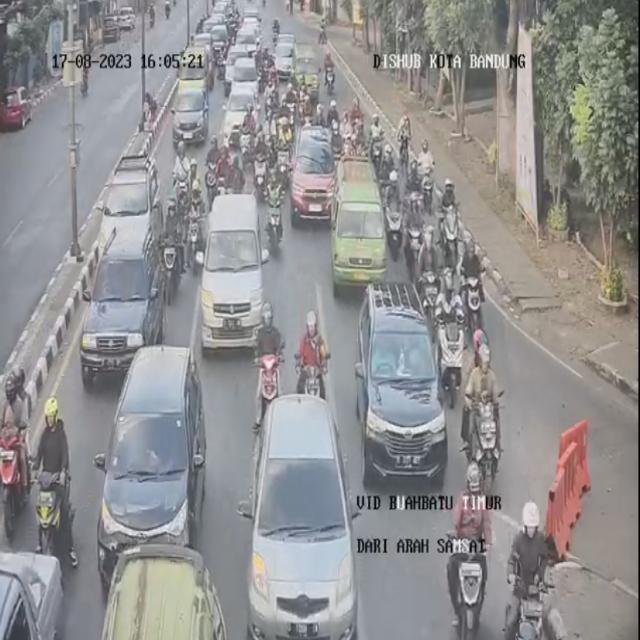bunch of motorcycle: (214, 137, 286, 193), (332, 103, 394, 158), (265, 80, 319, 124)
bus: (181, 42, 214, 98)
cars: (96, 345, 208, 583), (246, 394, 354, 640), (353, 289, 445, 486), (81, 222, 164, 384), (99, 546, 227, 640), (200, 193, 270, 352), (0, 552, 63, 639), (290, 126, 334, 224), (172, 79, 210, 152), (228, 84, 260, 138), (232, 55, 260, 96), (273, 35, 295, 76), (238, 25, 260, 60), (241, 21, 260, 45), (244, 12, 261, 34)
motorcycle: (446, 472, 494, 636), (507, 498, 558, 640), (458, 324, 504, 479), (33, 406, 77, 552), (0, 360, 29, 524), (256, 301, 287, 419), (420, 231, 449, 335), (295, 311, 327, 398), (437, 176, 461, 291), (458, 274, 482, 368), (410, 122, 438, 201), (404, 195, 428, 284), (164, 198, 186, 294), (459, 240, 486, 312), (384, 167, 403, 255), (184, 191, 202, 272), (185, 156, 202, 212), (325, 47, 338, 97), (321, 49, 334, 96)
truck: (328, 161, 391, 302)
